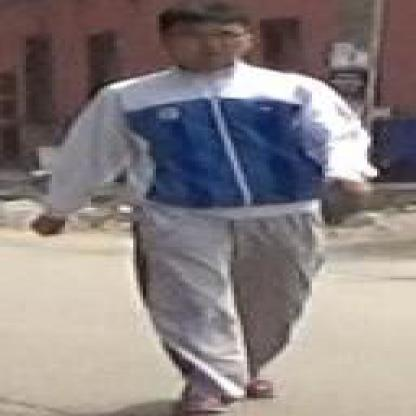adult: (33, 3, 379, 416)
